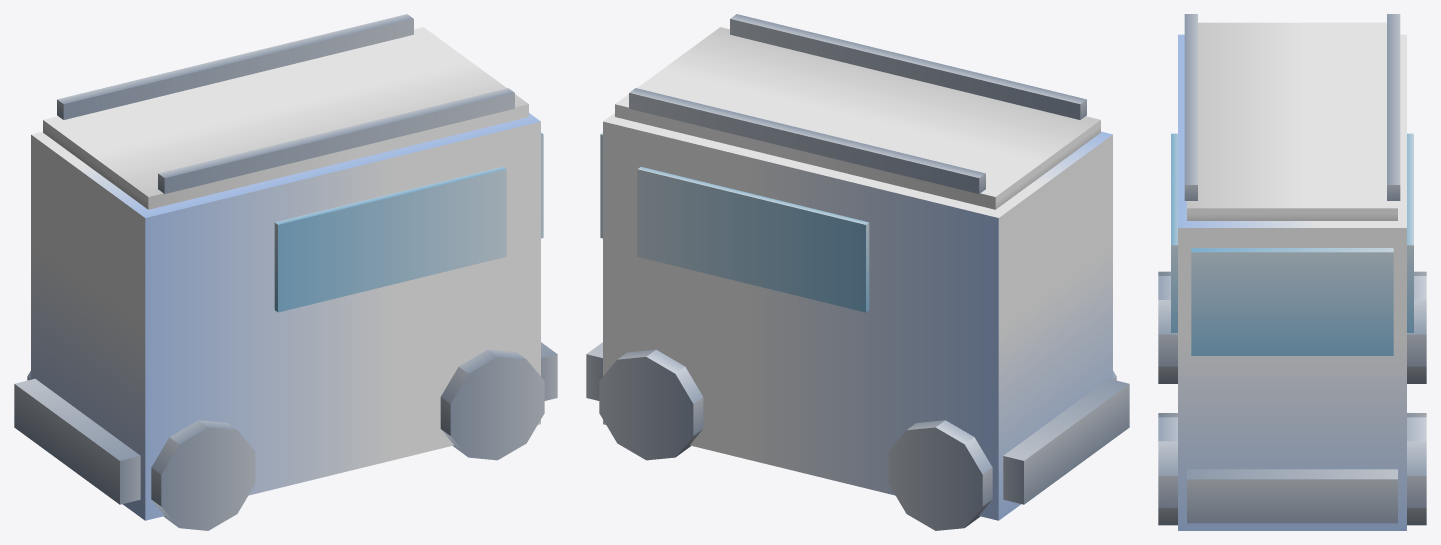
The model's file is van.fbx.
The picture shows the model from 3 angles, left to right: view 1: azimuth 30°, elevation 25°; view 2: azimuth 150°, elevation 25°; view 3: azimuth 270°, elevation 25°; orthographic projection.
Parts seen in each view (by area): view 1: van; view 2: van; view 3: van.
Part boxes in pixels (box(x1,y1,x2,y2)): van: box(14, 14, 557, 530); van: box(586, 14, 1129, 530); van: box(1158, 14, 1426, 530).
Bounding box in the file's own units: 1700 × 1301 × 902.
